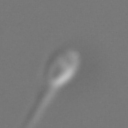normal: (11, 86, 54, 128)
